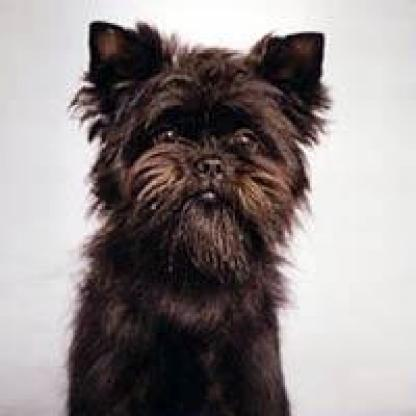affenpinscher: (64, 14, 322, 412)
